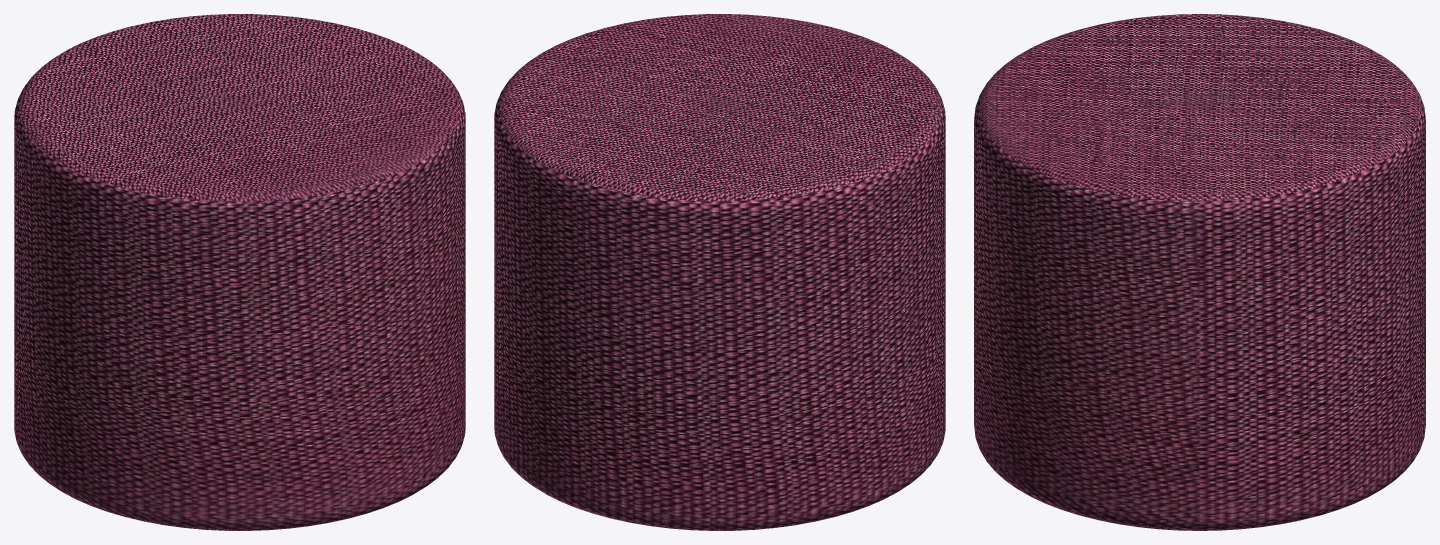
Rendered from purpleSofa.glb.
The picture shows the model from 3 angles, left to right: view 1: azimuth 30°, elevation 25°; view 2: azimuth 150°, elevation 25°; view 3: azimuth 270°, elevation 25°; orthographic projection.
Visible parts, largest first — view 1: Cylinder; view 2: Cylinder; view 3: Cylinder.
Boxes of the visible parts, x1,y1,x2,y2 form: Cylinder: [14, 14, 465, 530]; Cylinder: [494, 14, 945, 530]; Cylinder: [974, 14, 1425, 530].
Bounding box in the file's own units: 0.2544 × 0.2099 × 0.2544.
Materials: 1 (1 with a texture image).
